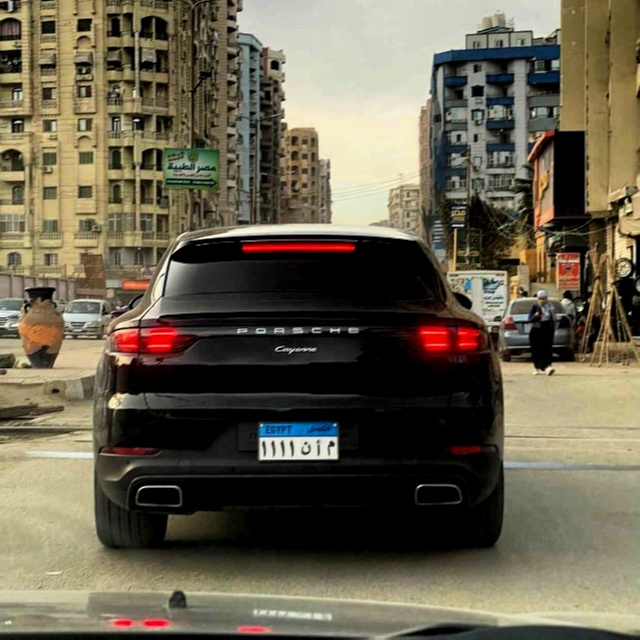License Plate: (255, 420, 342, 463)
